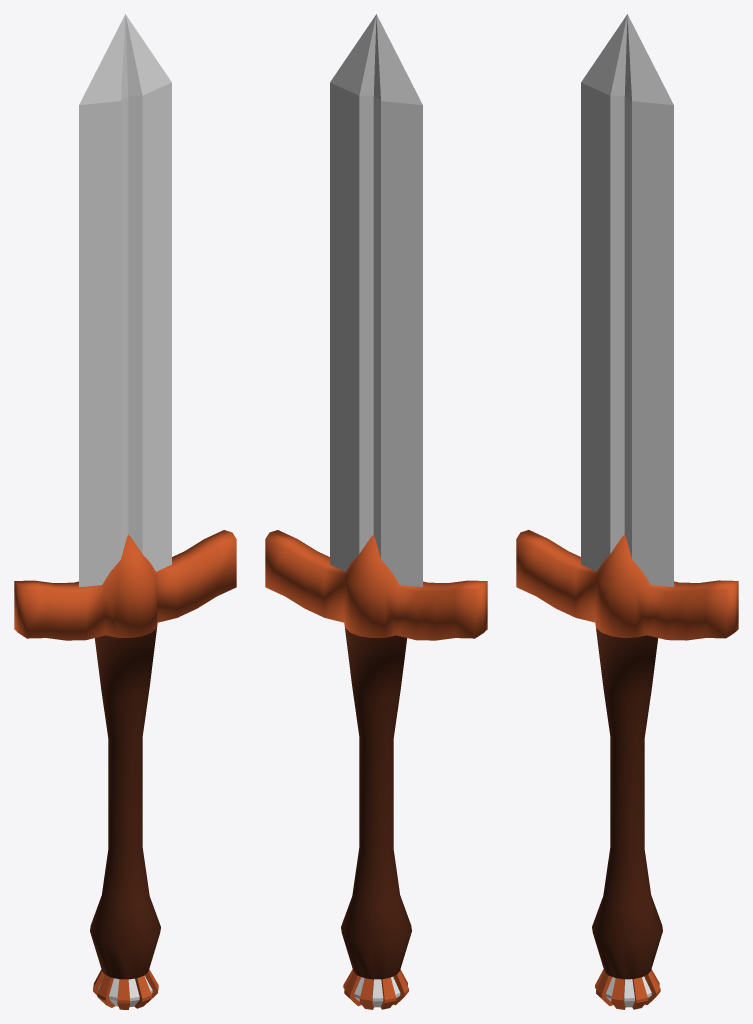
Rendered from Sword.fbx.
3 renders of one model, left to right at view 1: azimuth 30°, elevation 25°; view 2: azimuth 150°, elevation 25°; view 3: azimuth 330°, elevation 25°, orthographic.
Parts seen in each view (by area): view 1: Sword; view 2: Sword; view 3: Sword.
Boxes of the visible parts, left/top/right/bottom form: Sword: left=14, top=14, right=236, bottom=1009; Sword: left=265, top=14, right=487, bottom=1009; Sword: left=516, top=14, right=738, bottom=1009.
Size of the model in its own units: 271 by 1192 by 78.63.
